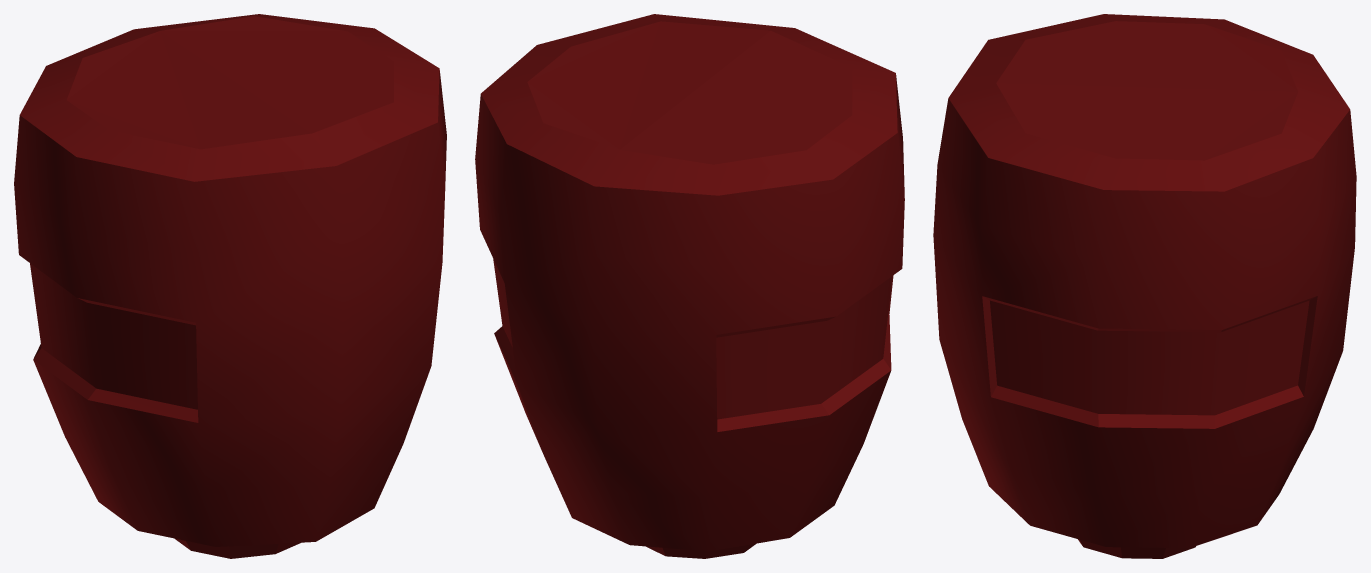
Rendered from cannon.FBX.
3 renders of one model, left to right at view 1: azimuth 30°, elevation 25°; view 2: azimuth 150°, elevation 25°; view 3: azimuth 270°, elevation 25°, orthographic.
Parts seen in each view (by area): view 1: cannon; view 2: cannon; view 3: cannon.
Boxes of the visible parts, x1,y1,x2,y2 form: cannon: (14,14,446,558); cannon: (475,14,904,558); cannon: (933,14,1356,558).
Bounding box in the file's own units: 0.0501 × 0.0494 × 0.0579.
